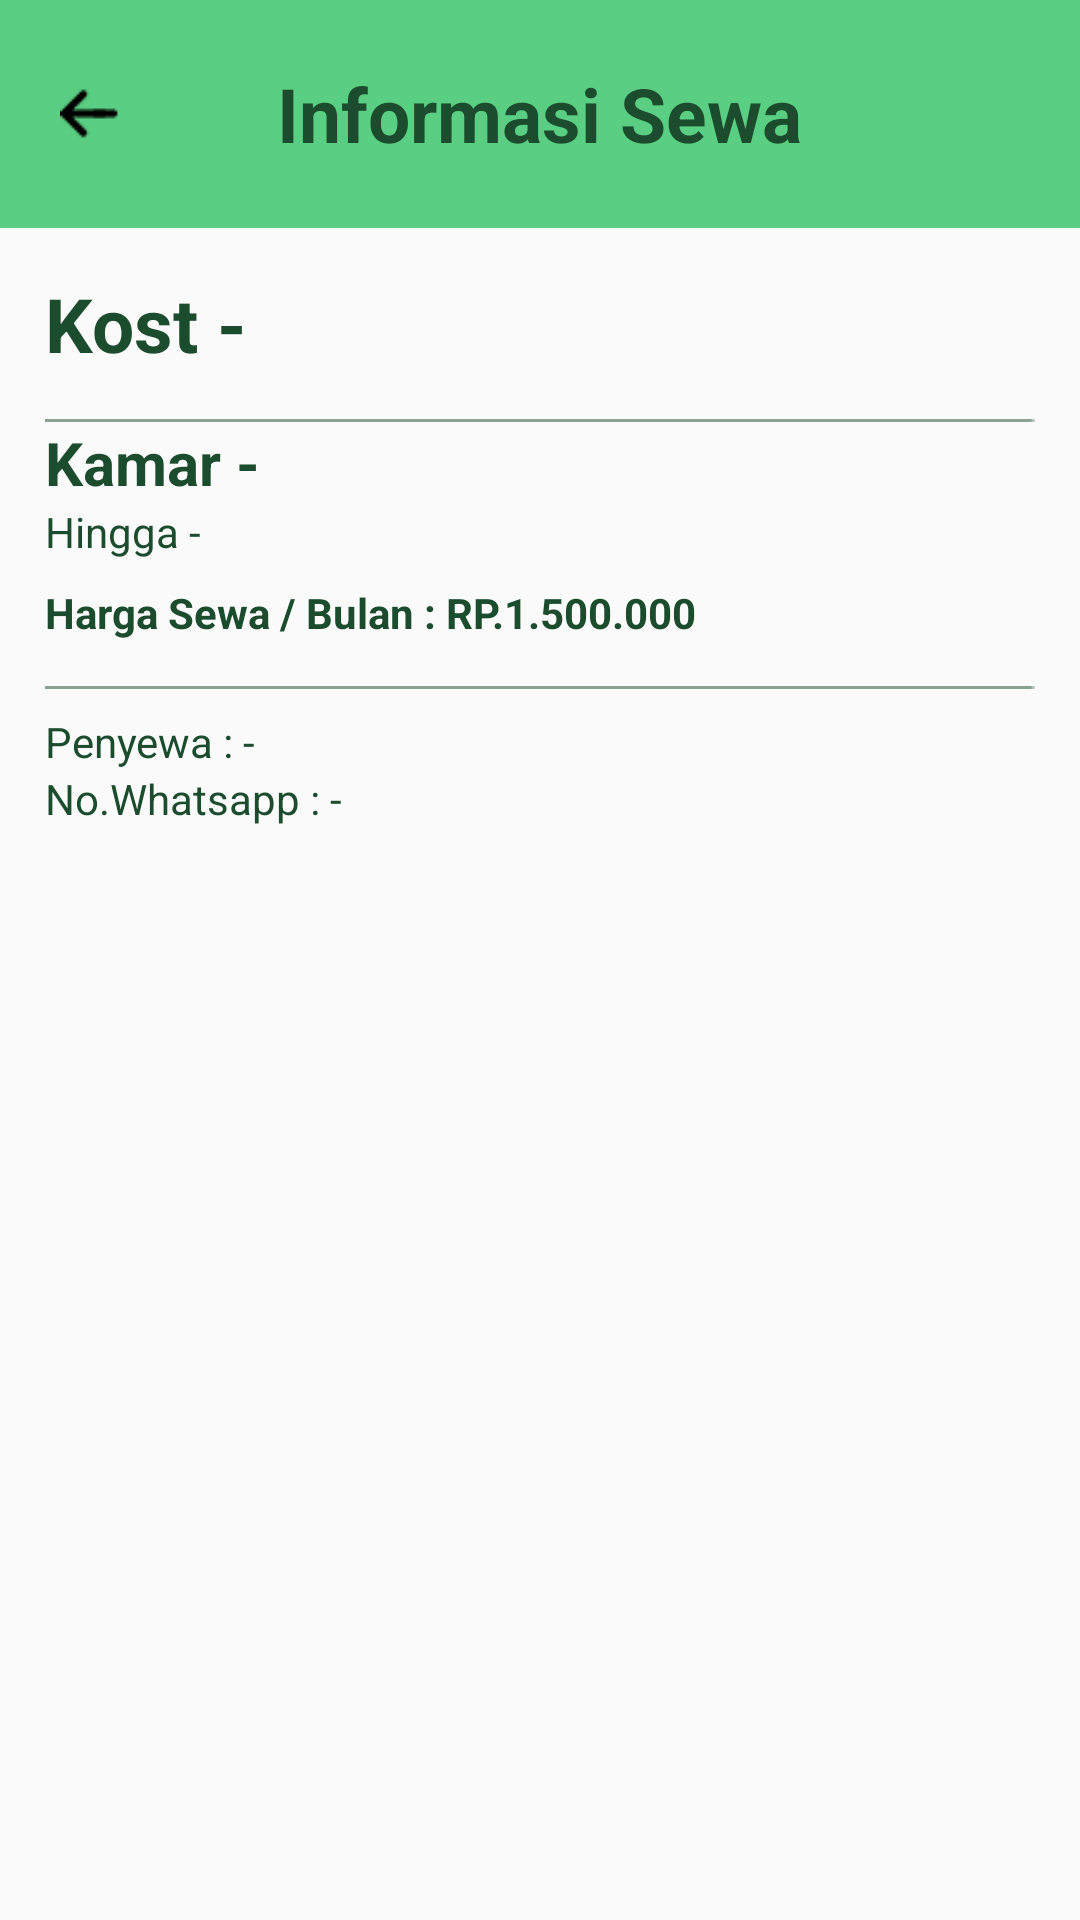

Screen size 1080w x 1920h. Icon name, then its box in pixels as {"left": x1, "top": y1, "right": x2, "bottom": y2}:
back: {"left": 60, "top": 89, "right": 118, "bottom": 138}
